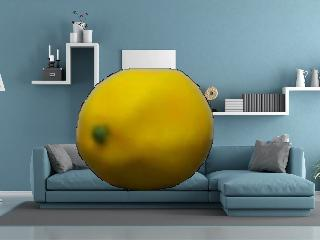lemon: (69, 58, 225, 198)
